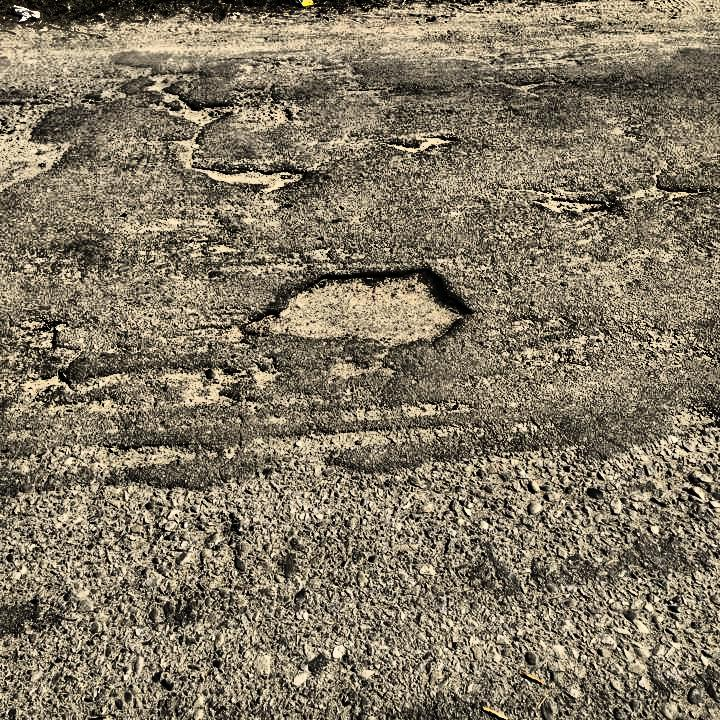pothole: (244, 262, 476, 347), (150, 86, 236, 126), (187, 165, 311, 183), (391, 132, 448, 157)
